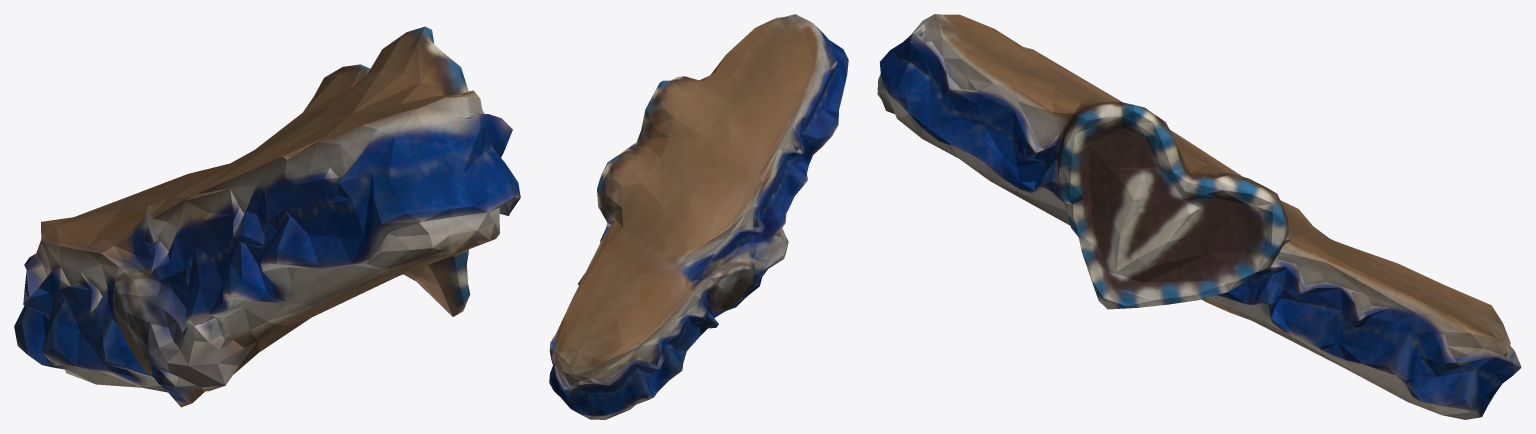
3 views of the same model, side by side, from view 1: azimuth 30°, elevation 25°; view 2: azimuth 150°, elevation 25°; view 3: azimuth 270°, elevation 25° (orthographic). The views are drawn at different scales.
Visible parts, largest first — view 1: _2k_2k; view 2: _2k_2k; view 3: _2k_2k.
Part boxes in pixels (<box>): _2k_2k: <box>14,26,520,407</box>; _2k_2k: <box>549,14,848,419</box>; _2k_2k: <box>877,14,1521,419</box>.
Bounding box in the file's own units: 0.0343 × 0.0613 × 0.093.
Materials: 1 (1 with a texture image).
